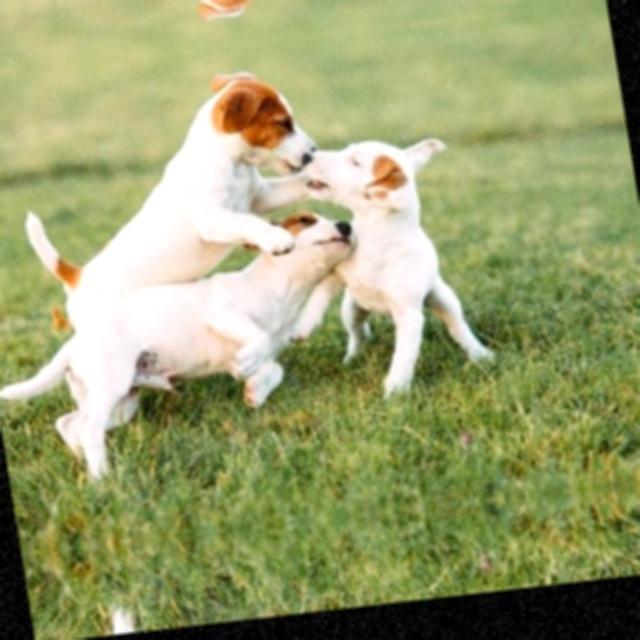dog: (0, 60, 338, 344), (0, 0, 291, 53)
